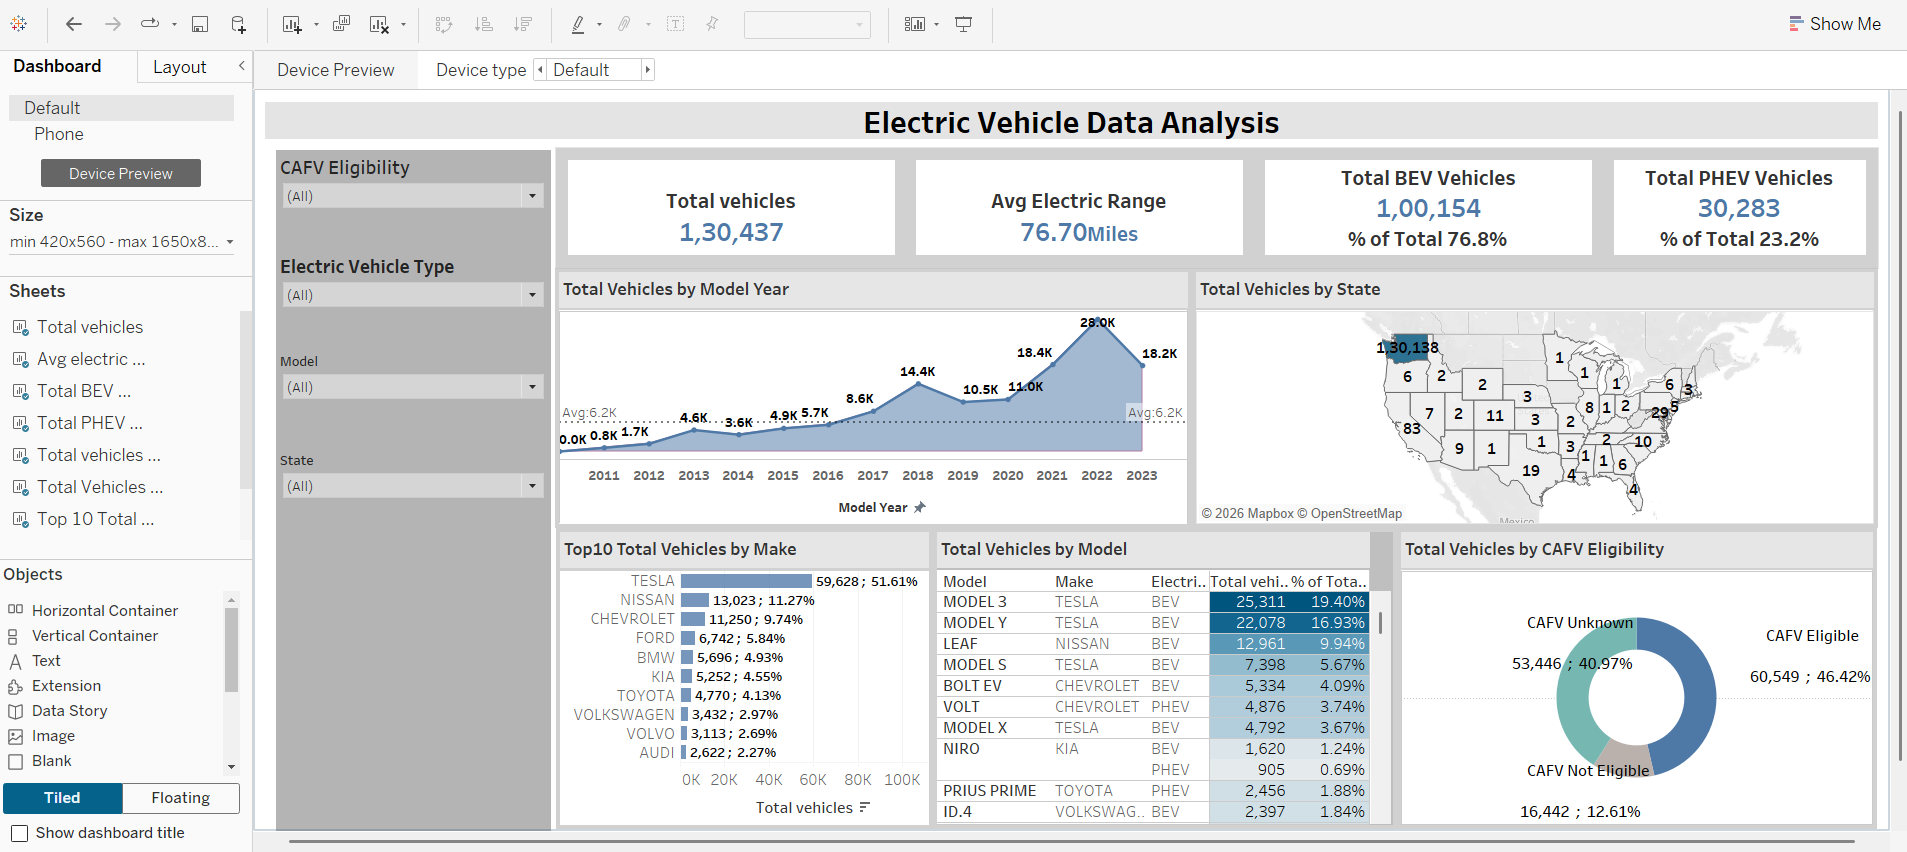

Layout of this report page (visuals, bound fields, positions):
{"tool":"tableau","page":{"name":"Electric Vehicle Data Analysis Dashboard","canvas":[1000,1000],"units":"permille","ordinal":0},"visuals":[{"type":"title","box":[4.9,10.8,990.1,60.7]},{"type":"worksheet","title":"Total vehicles","mark":"Automatic","box":[185.5,80.2,212.6,158.6]},{"type":"worksheet","title":"Avg electric Range","mark":"Automatic","box":[398.1,80.2,212.6,158.6]},{"type":"worksheet","title":"Total BEV Vehicles","mark":"Automatic","box":[610.6,80.2,212.6,158.6]},{"type":"worksheet","title":"Total PHEV Vehicles","mark":"Automatic","box":[823.1,80.2,168.9,158.6]},{"type":"filter","title":"Total vehicles by Model Year","param":"[federated.11lpt111csut6j1c04lec0o6zj5u].[none:Clean Alternative Fuel Vehicle (C","box":[13.6,81,168.3,133.6]},{"type":"filter","title":"Total vehicles by Model Year","param":"[federated.11lpt111csut6j1c04lec0o6zj5u].[none:Electric Vehicle Type:nk]","box":[13.6,214.6,168.3,133.6]},{"type":"worksheet","title":"Total vehicles by Model Year","mark":"Area","rows":["Calculation_714665027727405056","Calculation_714665027727405056"],"cols":["Model Year"],"box":[184.2,240.2,392.7,350.4]},{"type":"worksheet","title":"Total Vehicles by State","mark":"Multipolygon","box":[577,240.2,415.8,350.4]},{"type":"filter","title":"Total vehicles by Model Year","param":"[federated.11lpt111csut6j1c04lec0o6zj5u].[none:Model:nk]","box":[13.6,348.2,168.3,133.6]},{"type":"filter","title":"Total vehicles by Model Year","param":"[federated.11lpt111csut6j1c04lec0o6zj5u].[none:State:nk]","box":[13.6,481.8,168.3,133.6]},{"type":"worksheet","title":"Top 10 Total Vehicles by Make","mark":"Automatic","rows":["Make"],"cols":["Calculation_714665027727405056"],"box":[184.8,590.6,232.4,406.8]},{"type":"worksheet","title":"Total Vehicles by Model","mark":"Square","rows":["Model","Make","Electric Vehicle Type"],"box":[417.3,590.6,286.1,406.8]},{"type":"worksheet","title":"Total vehicles by CAFV Eligibility","mark":"Pie","rows":["Calculation_751256776800444417","Calculation_751256776800444417"],"box":[703.3,590.6,288.8,406.8]},{"type":"blank","box":[13.6,615.4,168.3,133.6]},{"type":"blank","box":[13.6,749,168.3,132.2]}]}

Visuals, with their boxes on the dashboard's canvas, which has no fixed pixel size, in thousandths of its width and height (x1, y1, x2, y2). These are canvas units, not pixel positions in the 1907x852 screenshot, which may show the page scaled, cropped or inside an application window:
title: (left=5, top=11, right=995, bottom=72)
"Total vehicles" worksheet: (left=186, top=80, right=398, bottom=239)
"Avg electric Range" worksheet: (left=398, top=80, right=611, bottom=239)
"Total BEV Vehicles" worksheet: (left=611, top=80, right=823, bottom=239)
"Total PHEV Vehicles" worksheet: (left=823, top=80, right=992, bottom=239)
"Total vehicles by Model Year" filter: (left=14, top=81, right=182, bottom=215)
"Total vehicles by Model Year" filter: (left=14, top=215, right=182, bottom=348)
"Total vehicles by Model Year" worksheet (Area marks): (left=184, top=240, right=577, bottom=591)
"Total Vehicles by State" worksheet (Multipolygon marks): (left=577, top=240, right=993, bottom=591)
"Total vehicles by Model Year" filter: (left=14, top=348, right=182, bottom=482)
"Total vehicles by Model Year" filter: (left=14, top=482, right=182, bottom=615)
"Top 10 Total Vehicles by Make" worksheet: (left=185, top=591, right=417, bottom=997)
"Total Vehicles by Model" worksheet (Square marks): (left=417, top=591, right=703, bottom=997)
"Total vehicles by CAFV Eligibility" worksheet (Pie marks): (left=703, top=591, right=992, bottom=997)
blank: (left=14, top=615, right=182, bottom=749)
blank: (left=14, top=749, right=182, bottom=881)
